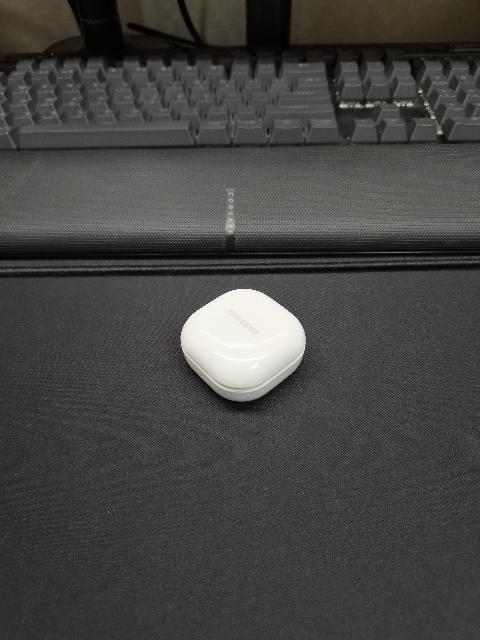earphone_case: (180, 289, 306, 402)
